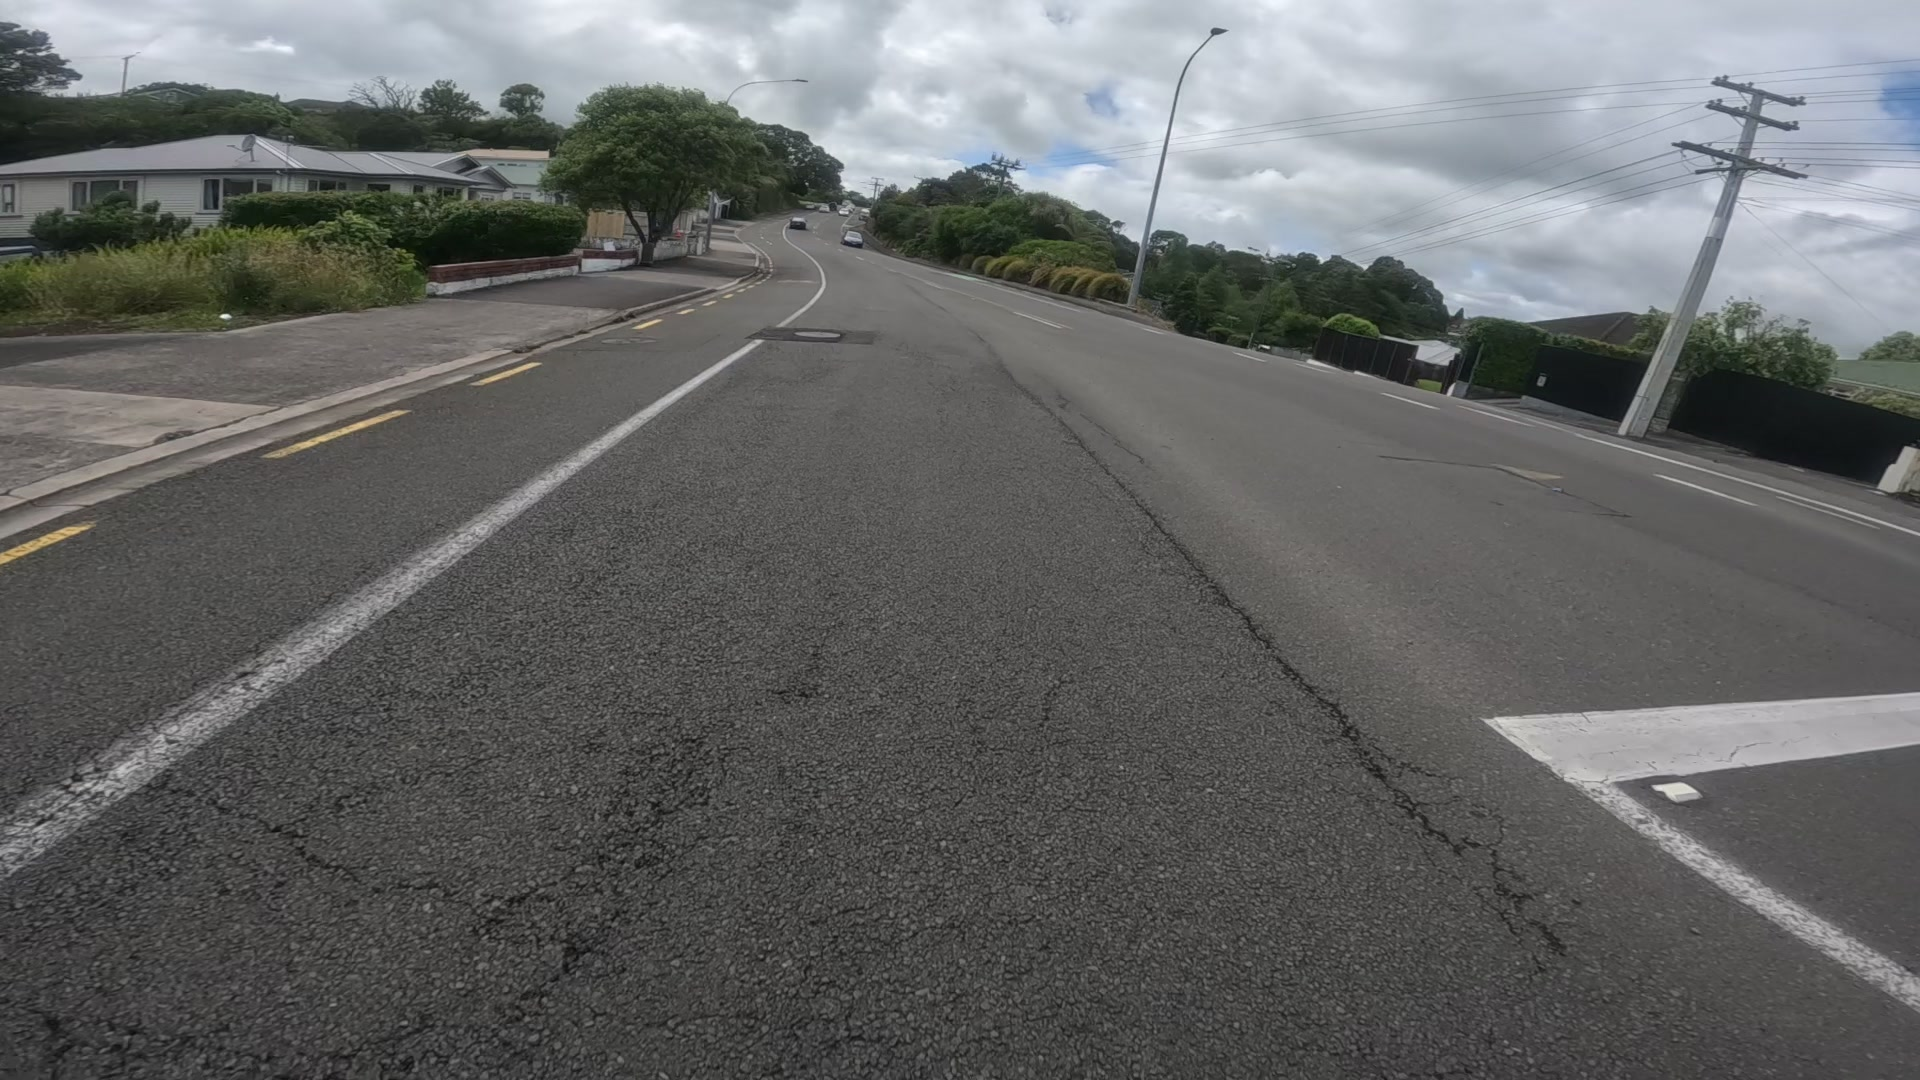Longitudinal_Cracking: (1083, 452, 1511, 910)
